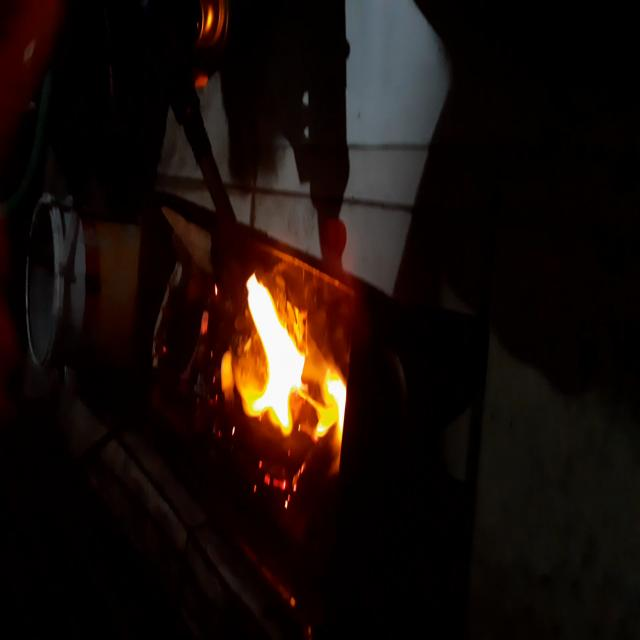Fire: (224, 255, 348, 478)
